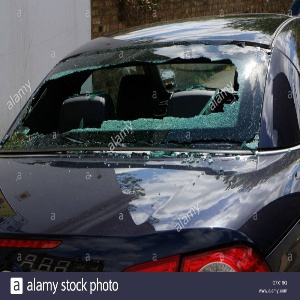rear_windshield_glass: (37, 64, 238, 139)
